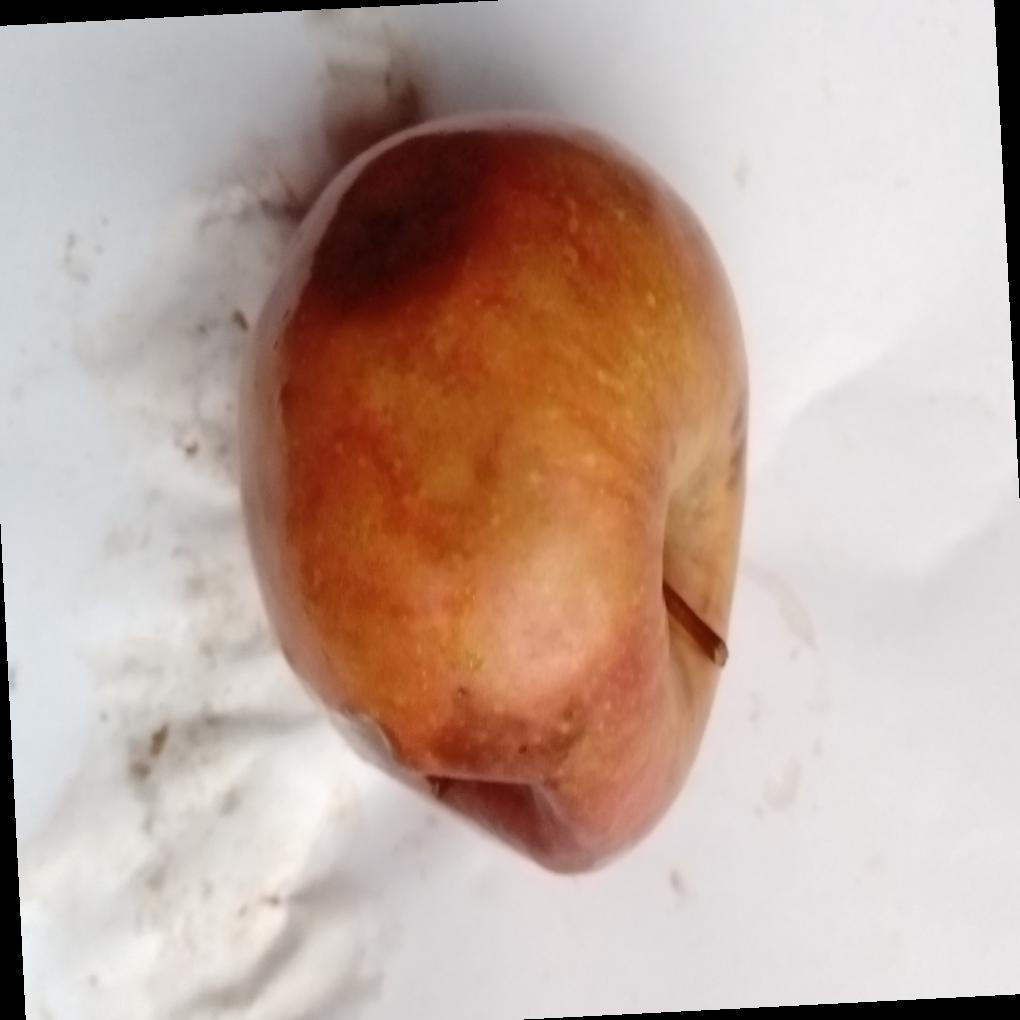FreshOrange: (233, 110, 752, 880)
